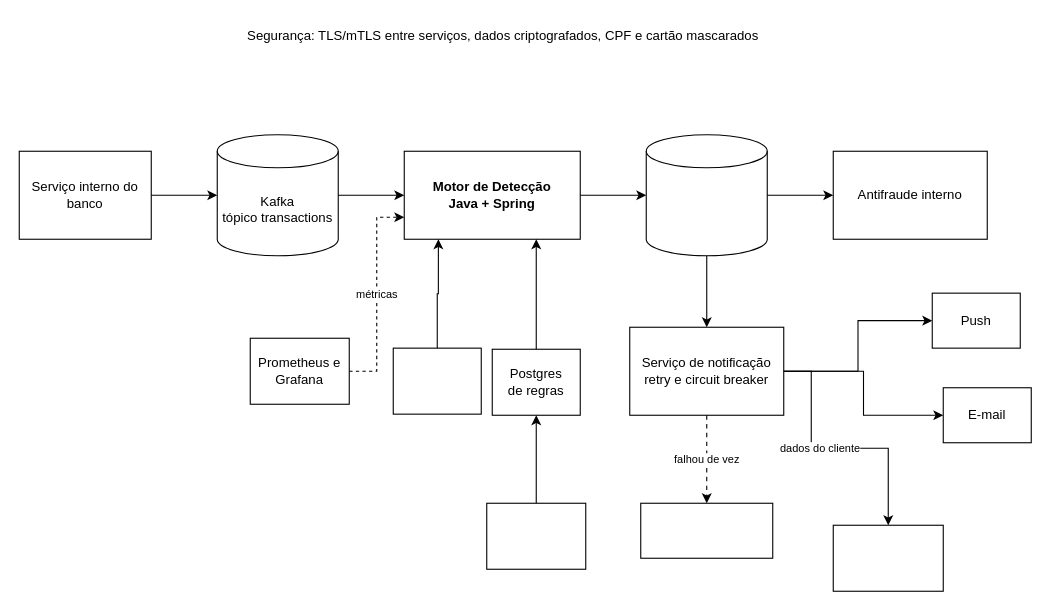
Some shapes in this 1051 by 611 pixel diagram are drawn without their labels. Each missing label, with the centre of its shape:
API de Regras: pixel 536 535
Base de clientes: pixel 887 557
DLQ: pixel 706 530
Kafka tópico alerts: pixel 706 195
Redis: pixel 436 380
